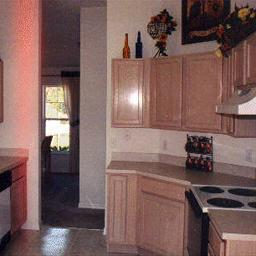Electrodomestico: (185, 185, 209, 254)
